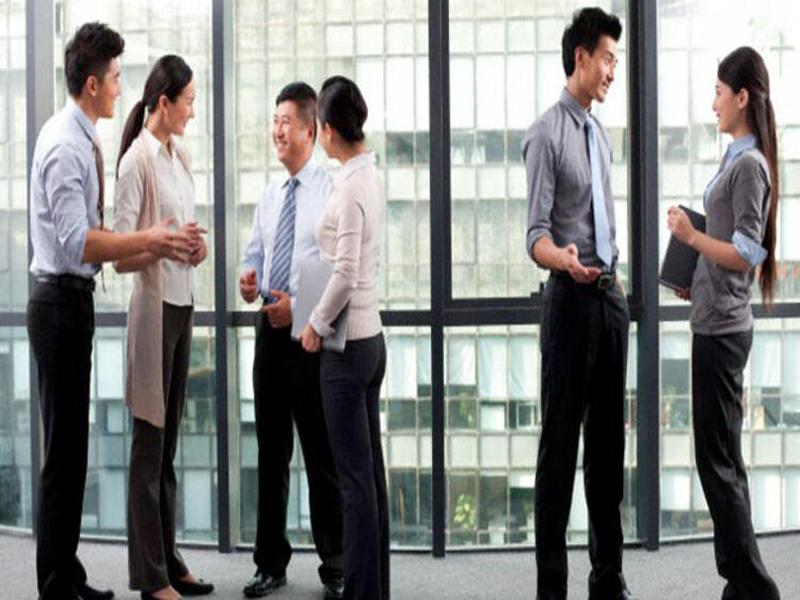human: (29, 21, 174, 600), (667, 44, 784, 600), (525, 6, 633, 600), (237, 81, 343, 599), (114, 51, 214, 600), (296, 75, 388, 600)
